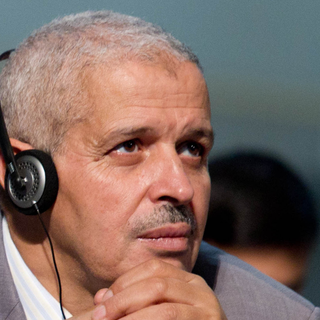eye: (98, 134, 149, 167), (172, 133, 210, 166)
